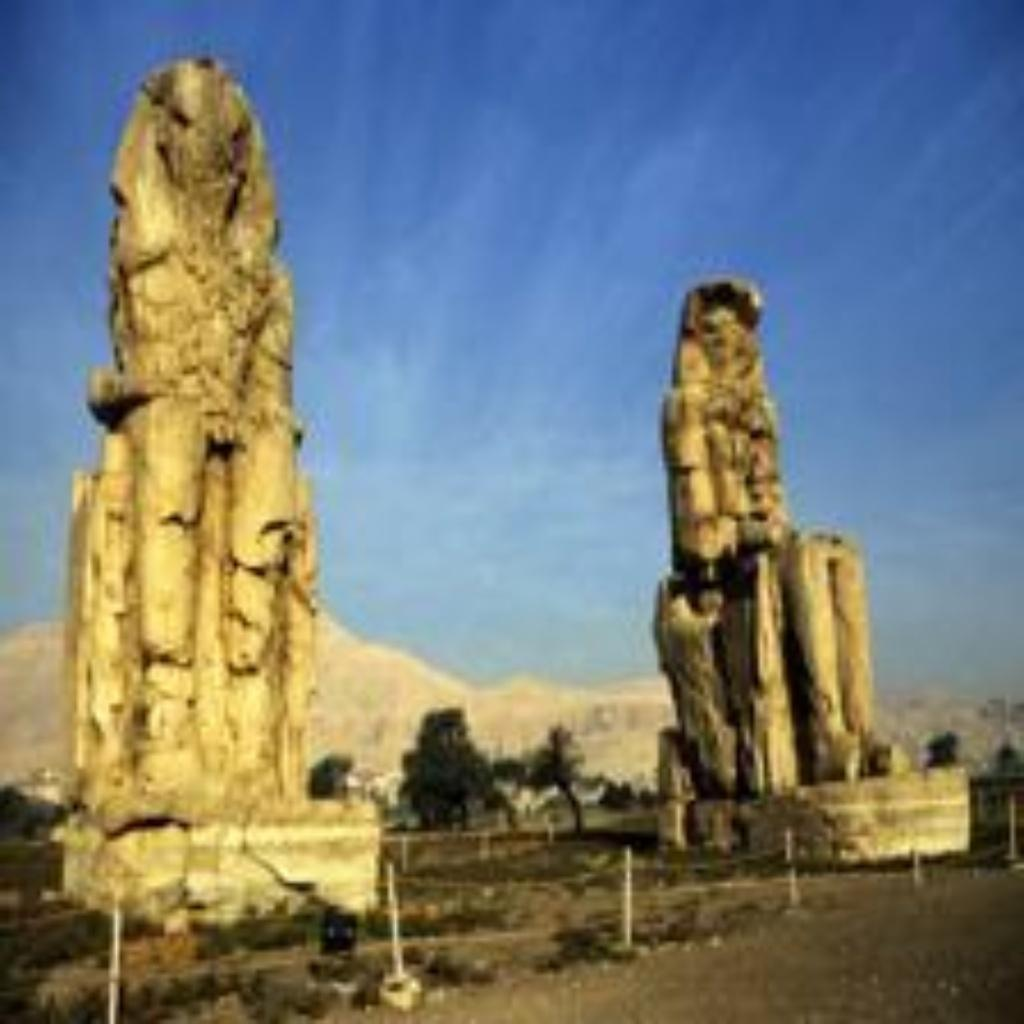Colossoi of Memnon: (41, 46, 384, 924), (640, 270, 896, 814)
